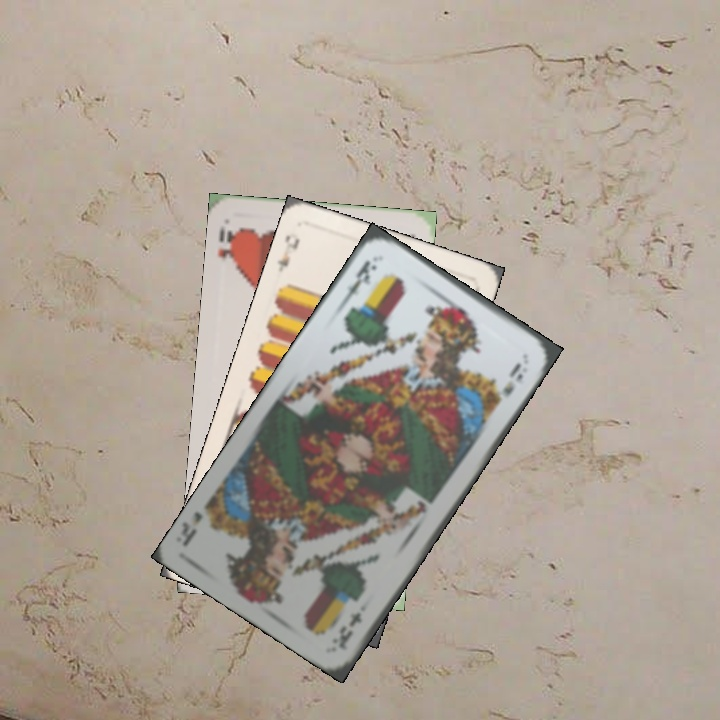E9: (273, 230, 302, 276)
EK: (338, 256, 380, 306), (334, 607, 364, 653)
HO: (213, 222, 241, 265)
